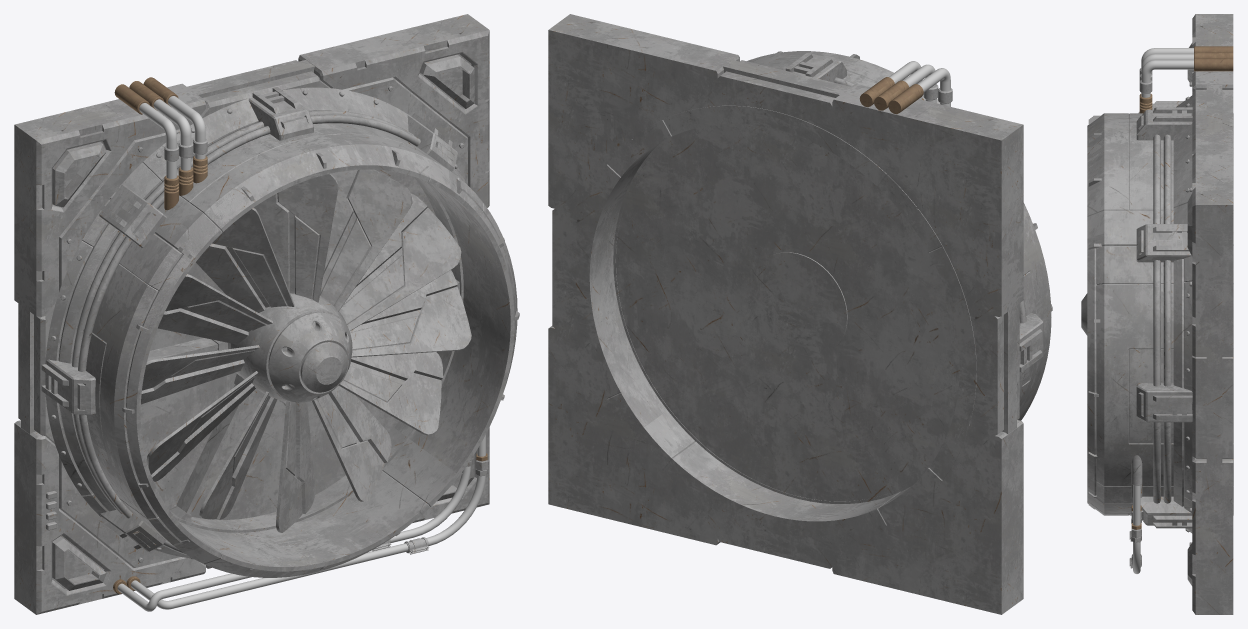
File: Sci-Fi Parts Kit Pack Vol 02_Free.fbx
3 renders of one model, left to right at view 1: azimuth 30°, elevation 25°; view 2: azimuth 150°, elevation 25°; view 3: azimuth 270°, elevation 25°, orthographic. The views are drawn at different scales.
Parts seen in each view (by area): view 1: F_003, F_004, F_008, F_002, F_007, F_005, F_006, F_001; view 2: F_008, F_002, F_003, F_007, F_006; view 3: F_003, F_008, F_002, F_006, F_001, F_005, F_004.
Part boxes in pixels (x1,y1,x2,y2): F_003: (41,87,519,577); F_004: (141,169,471,532); F_008: (14,14,489,614); F_002: (44,87,466,559); F_007: (147,177,463,532); F_005: (117,434,485,611); F_006: (114,77,207,210); F_001: (113,453,488,593); F_008: (548,14,1023,614); F_002: (616,124,959,501); F_003: (573,51,1052,539); F_007: (613,137,920,503); F_006: (859,61,952,114); F_003: (1087,101,1233,528); F_008: (1187,14,1233,614); F_002: (1173,95,1192,533); F_006: (1139,46,1233,113); F_001: (1129,455,1142,568); F_005: (1133,485,1140,573); F_004: (1081,293,1087,335).
Size of the model in its own units: 79.72 by 82.07 by 26.89.
